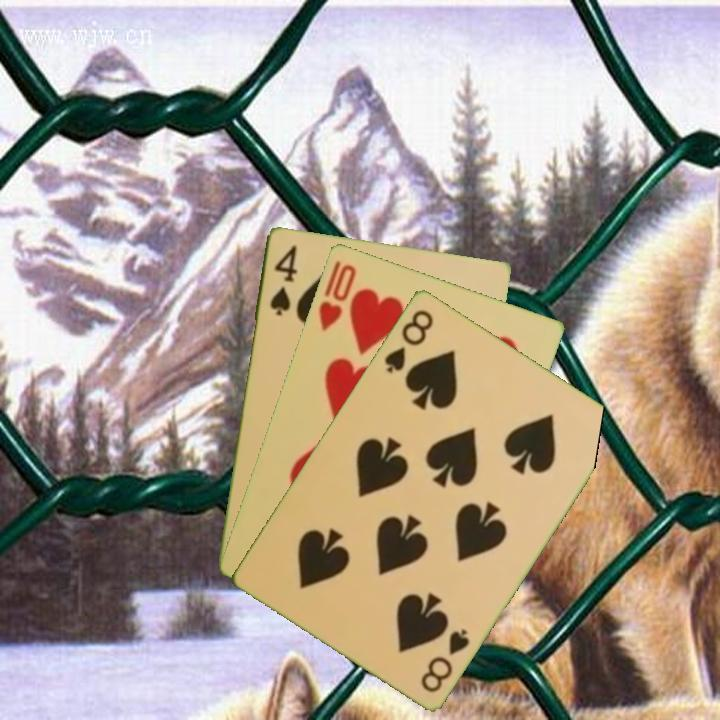10h: (314, 256, 359, 333)
4s: (266, 241, 299, 318)
8s: (417, 624, 473, 695), (380, 305, 436, 375)
